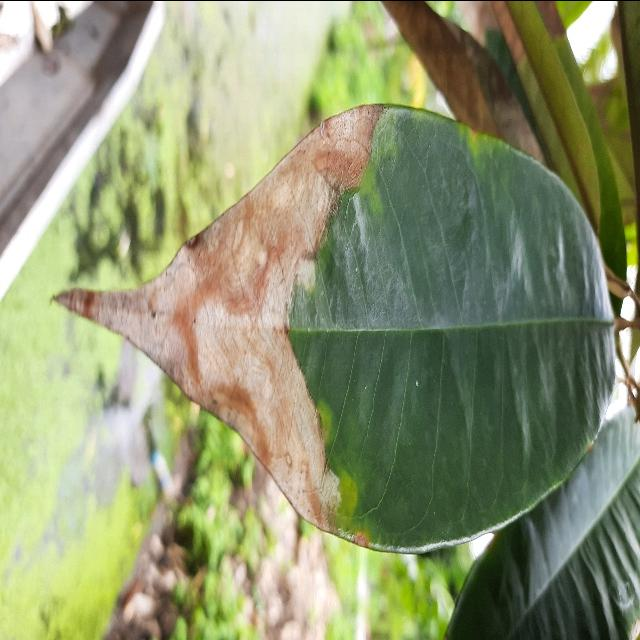Leaf Blight: (47, 89, 631, 561)
